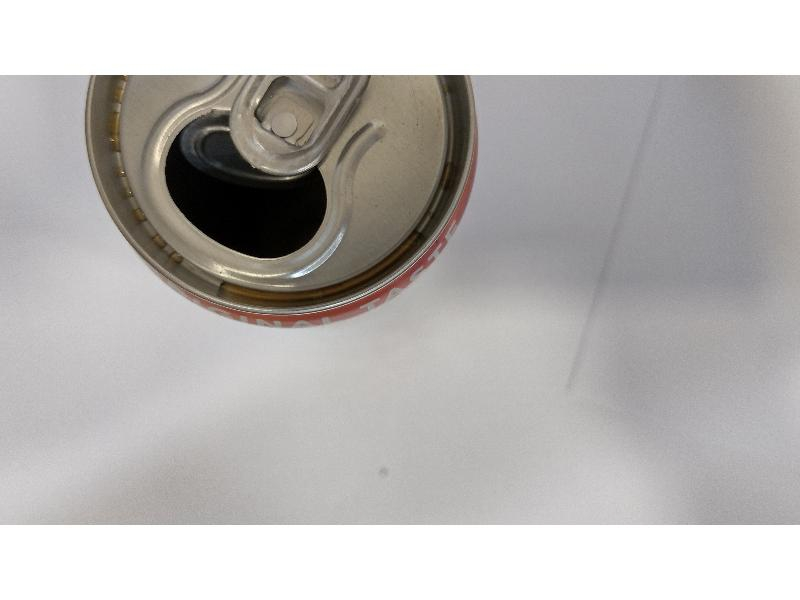can: (86, 73, 481, 334)
